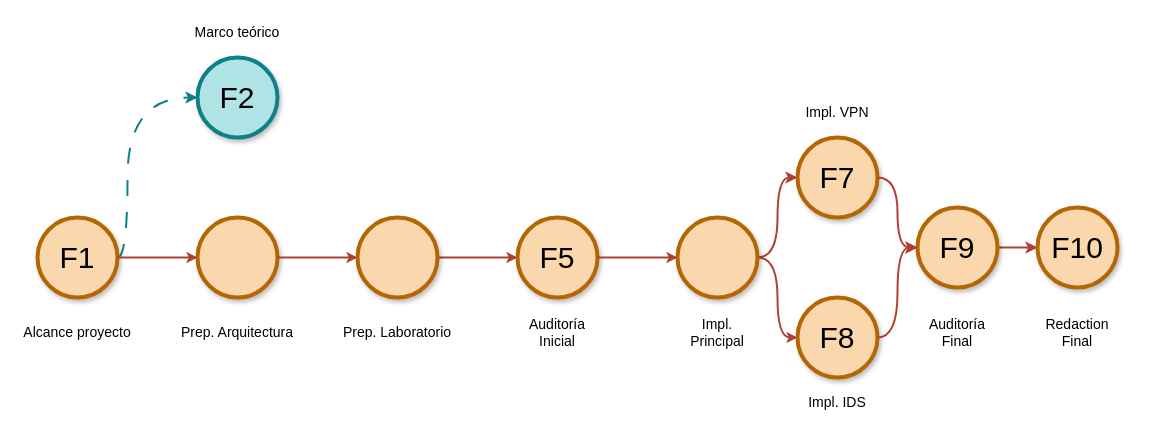
Some shapes in this 1154 by 434 pixel diagram are drawn without their labels. Each missing label, with the centre of its shape:
"F3" belongs at (238,258).
"F4" belongs at (398,258).
"F6" belongs at (718,258).
